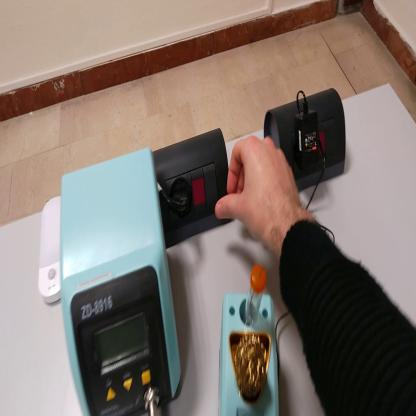hand: (215, 134, 302, 243)
socket: (153, 130, 229, 253), (264, 87, 346, 190)
welder base: (218, 263, 283, 414)
welder station: (58, 152, 185, 415)
